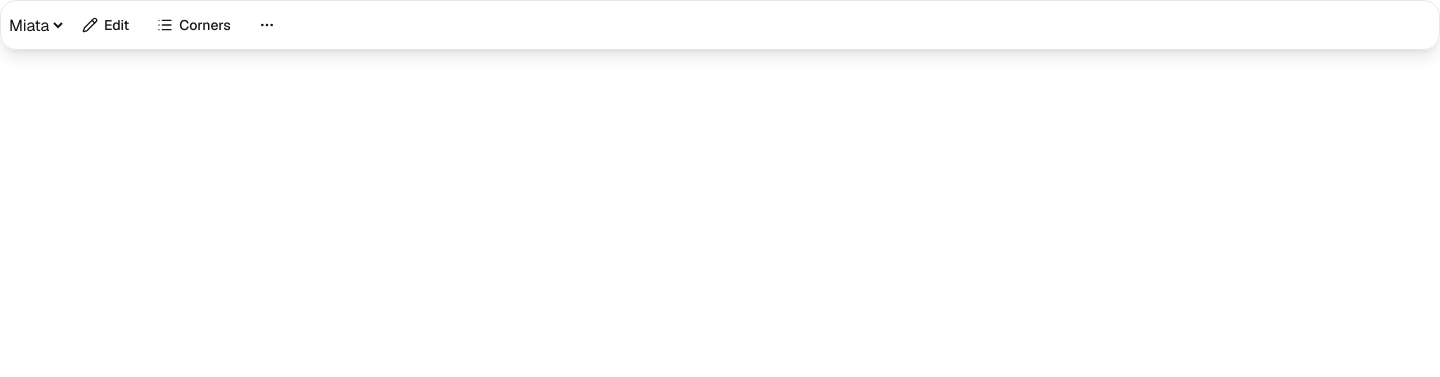
Test case: MapToolbar › keeps the More menu without a map, minus the map-only items
The image size is (1440, 377).
Click the button named "More map actions" at x=267, y=25, box [247,5,287,45]
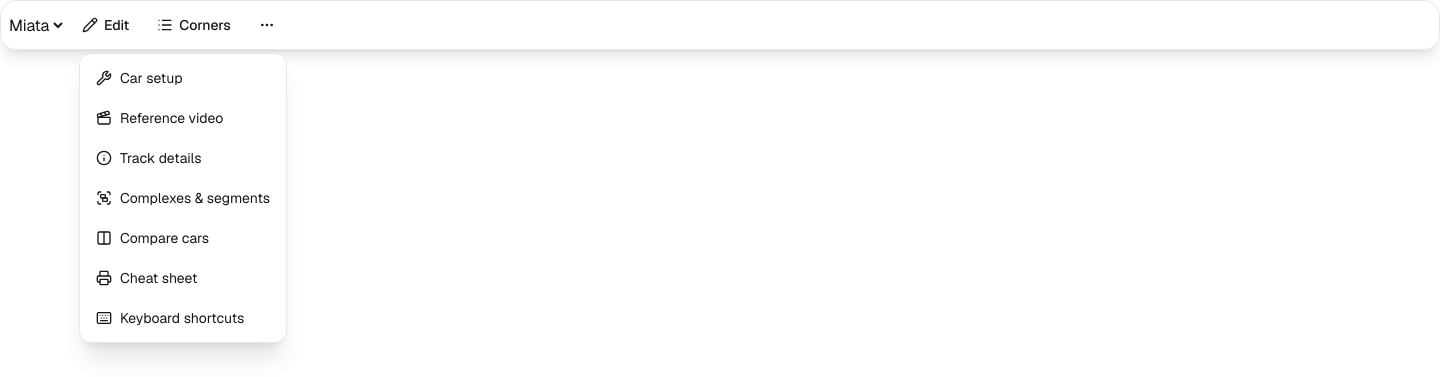
Expected: the menu item "Car setup" is shown, [96,69,183,87]
Expected: the menu item "Reference video" is shown, [96,109,223,127]
Expected: the menu item "Keyboard shortcuts" is shown, [96,309,244,327]
